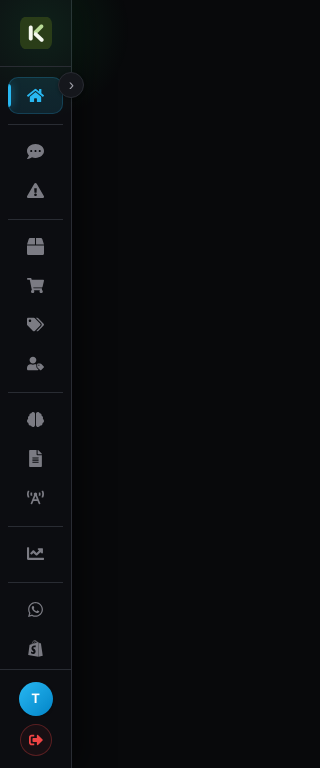
Test case: merchant sidebar can be opened and closed by keyboard accessible controls
Later steps or results of the test are not shown.
Focus the button named "Expand sidebar" at x=71, y=85, box [58,72,84,98]
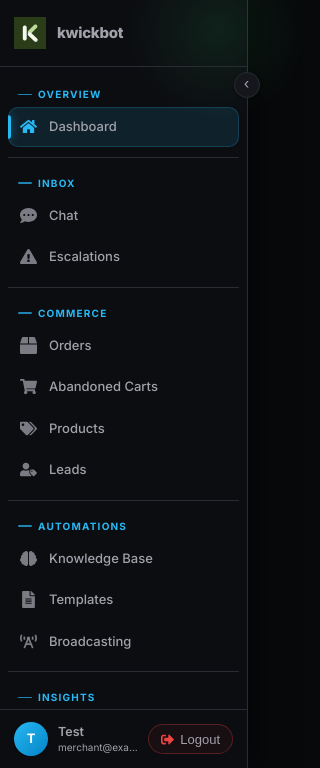
expect the element with class "sidebar" has class "sidebar-expanded": met
